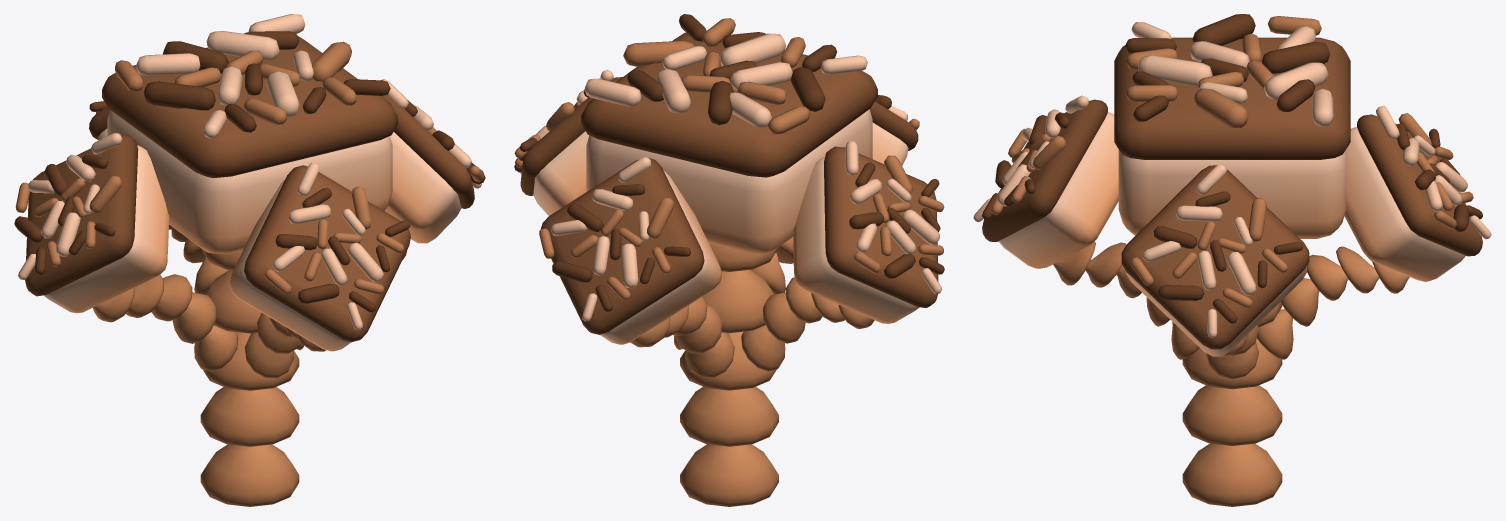
The model's file is cw_PlantsFlowers_30.fbx.
3 views of the same model, side by side, from view 1: azimuth 30°, elevation 25°; view 2: azimuth 150°, elevation 25°; view 3: azimuth 270°, elevation 25° (orthographic).
Parts seen in each view (by area): view 1: cw_pf_30; view 2: cw_pf_30; view 3: cw_pf_30.
Boxes of the visible parts, x1,y1,x2,y2 form: cw_pf_30: (14, 14, 485, 506); cw_pf_30: (514, 14, 944, 506); cw_pf_30: (973, 14, 1491, 506).
Size of the model in its own units: 192 by 177 by 192.
